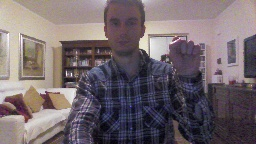Pugno: (166, 33, 203, 80)
